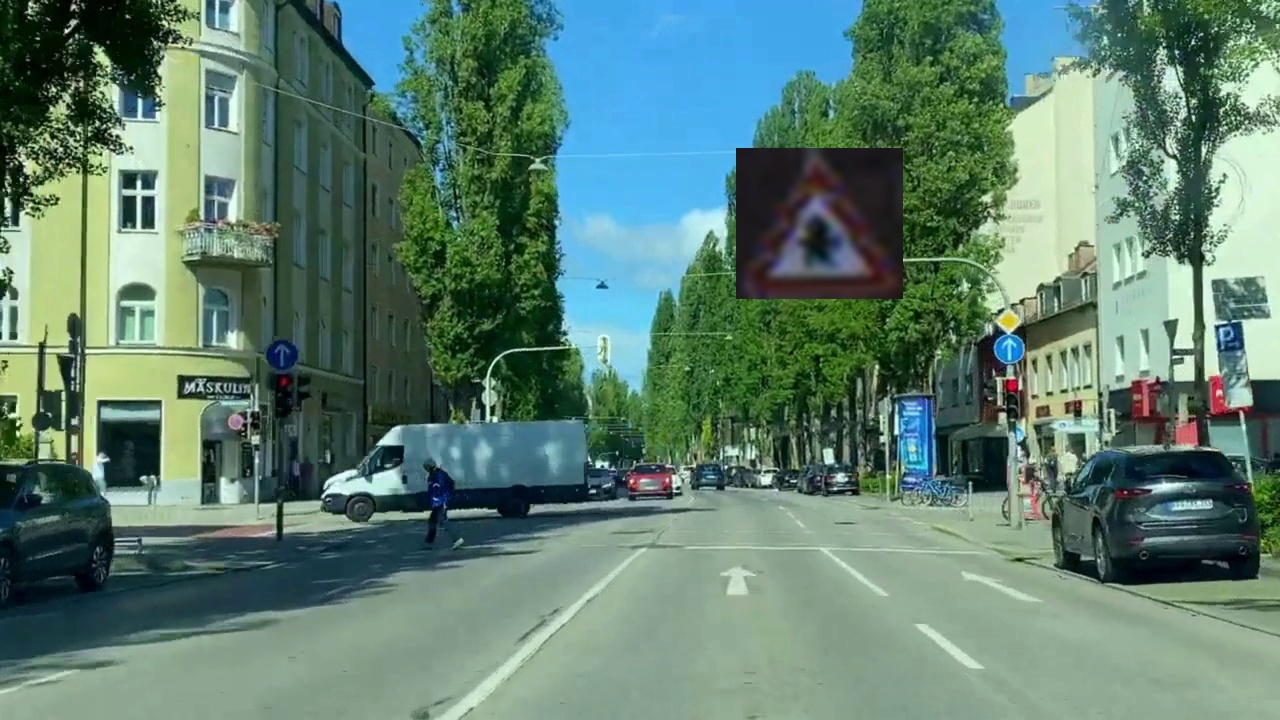Right-of-way: (736, 148, 903, 299)
